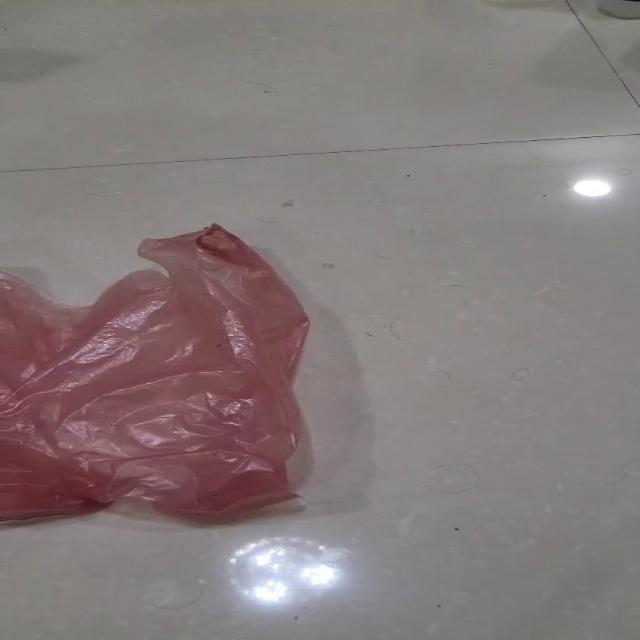plastic: (0, 221, 311, 522)
